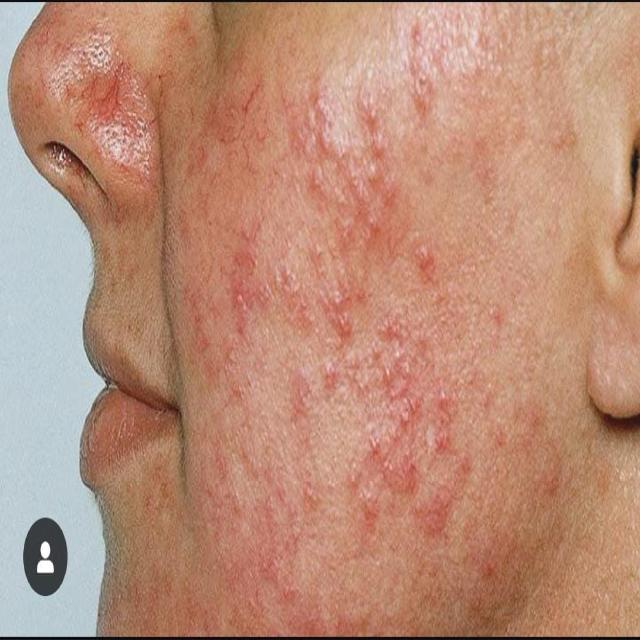Rosacea: (245, 233, 453, 548)
